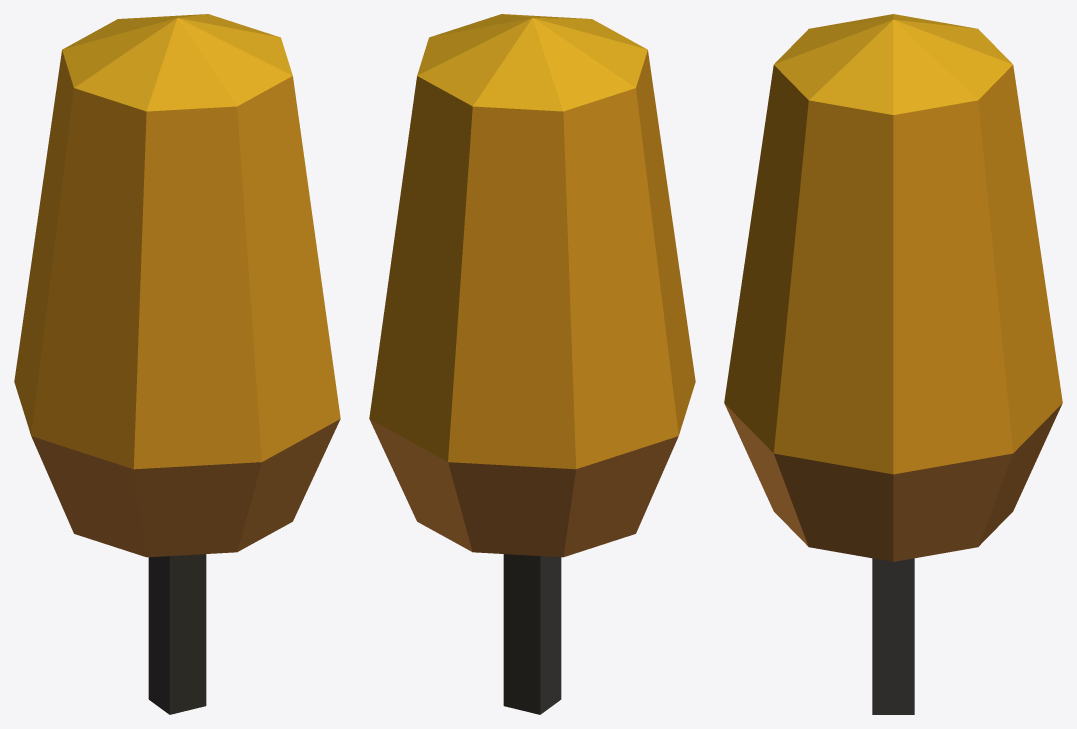
Rendered from TB_CITY_Env_Tree_Round_C.FBX.
The picture shows the model from 3 angles, left to right: view 1: azimuth 30°, elevation 25°; view 2: azimuth 150°, elevation 25°; view 3: azimuth 270°, elevation 25°; orthographic projection.
Visible parts, largest first — view 1: TB_CITY_Env_Tree_Round_C; view 2: TB_CITY_Env_Tree_Round_C; view 3: TB_CITY_Env_Tree_Round_C.
Boxes of the visible parts, x1,y1,x2,y2 form: TB_CITY_Env_Tree_Round_C: (14,14,340,714); TB_CITY_Env_Tree_Round_C: (369,14,695,714); TB_CITY_Env_Tree_Round_C: (724,14,1062,714).
Bounding box in the file's own units: 2.88 × 6.44 × 2.88.
